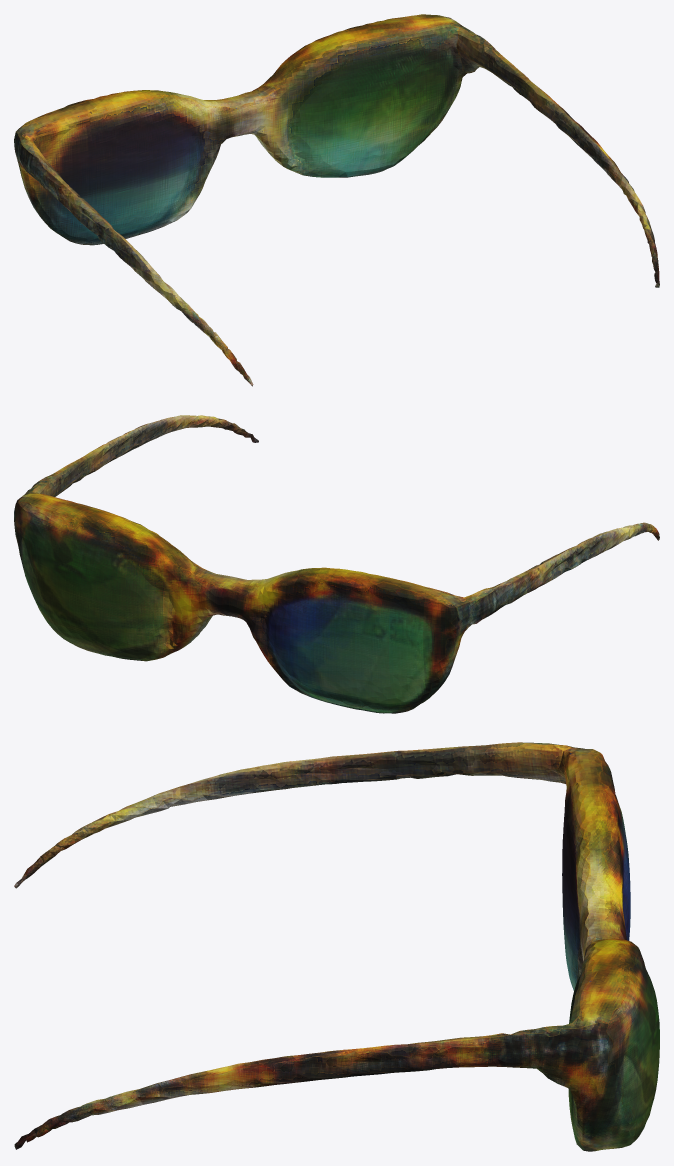
File: a pair of sunglasses.glb
3 renders of one model, top to bottom at view 1: azimuth 30°, elevation 25°; view 2: azimuth 150°, elevation 25°; view 3: azimuth 270°, elevation 25°, orthographic. The views are drawn at different scales.
Bounding box in the file's own units: 1 × 0.2875 × 0.9119.
Materials: 1 (1 with a texture image).
